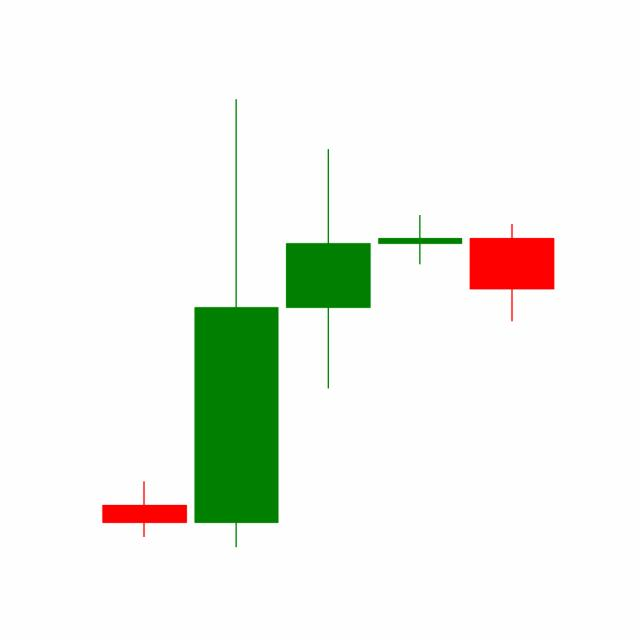Spinning Top: (373, 213, 467, 265)
